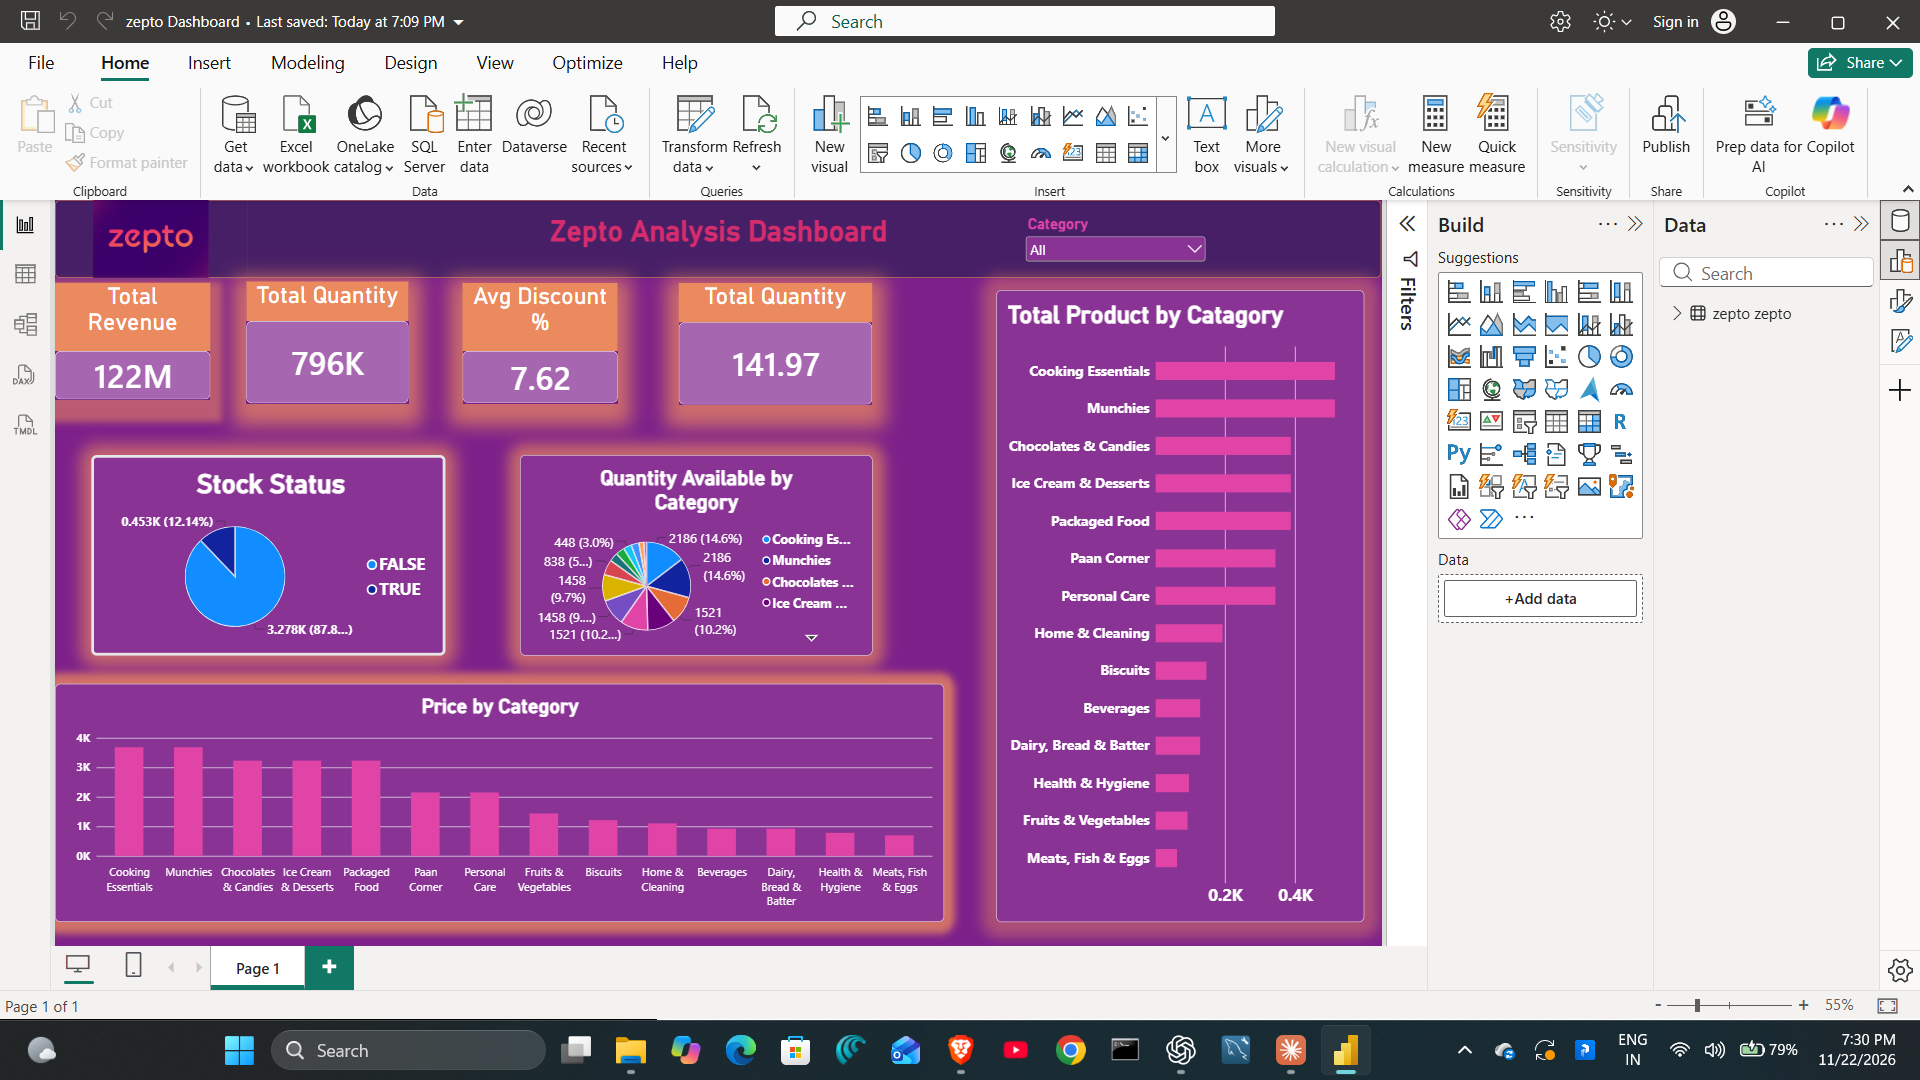

The dashboard page shown, as its layout file describes it:
{"tool":"powerbi","page":{"name":"Page 1","canvas":[1920,1080],"ordinal":0},"visuals":[{"type":"textbox","title":"Zepto Analysis Dashboard","box":[0,0,1920,112.5],"z":0},{"type":"image","box":[0,0,277.5,112.5],"z":1000},{"type":"cardVisual","title":"Total Revenue","fields":{"Data":["Sum(zepto zepto.Tota Revenue)"]},"box":[0,120,225,170],"z":2000},{"type":"cardVisual","title":"Total Quantity","fields":{"Data":["Sum(zepto zepto.quantity)"]},"box":[277.5,117.5,235,177.5],"z":3000},{"type":"cardVisual","title":"Avg Discount %","fields":{"Data":["Avg(zepto zepto.discountPercent)"]},"box":[590,120,225,175],"z":4000},{"type":"cardVisual","title":"Total Quantity","fields":{"Data":["Avg(zepto zepto.discountedSellingPrice)"]},"box":[902.5,120,280,177.5],"z":5000},{"type":"clusteredBarChart","fields":{"Category":["zepto zepto.Category"],"Y":["CountNonNull(zepto zepto.name)"]},"box":[1362.5,130,532.5,915],"z":6000},{"type":"pieChart","title":"Stock Status","fields":{"Category":["zepto zepto.outOfStock"],"Y":["CountNonNull(zepto zepto.outOfStock)"]},"box":[52.5,370,512.5,290],"z":7000},{"type":"pieChart","title":"Quantity Available by Category","fields":{"Category":["zepto zepto.Category"],"Y":["Sum(zepto zepto.availableQuantity)"]},"box":[672.5,370,510,290],"z":8000},{"type":"clusteredColumnChart","title":"Price by Category","fields":{"Category":["zepto zepto.Category"],"Y":["Sum(zepto zepto.discountPercent)"]},"box":[0,700,1287.5,345],"z":9000},{"type":"slicer","fields":{"Values":["zepto zepto.Category"]},"box":[1400,22.5,270,90],"z":9001}]}

Visuals, with their boxes on the page's 1920x1080 design canvas (x1, y1, x2, y2). These are canvas units, not pixel positions in the 1920x1080 screenshot, which may show the page scaled, cropped or inside an application window:
"Zepto Analysis Dashboard" textbox: bbox=(0, 0, 1920, 112)
image: bbox=(0, 0, 278, 112)
"Total Revenue" cardVisual: bbox=(0, 120, 225, 290)
"Total Quantity" cardVisual: bbox=(278, 118, 512, 295)
"Avg Discount %" cardVisual: bbox=(590, 120, 815, 295)
"Total Quantity" cardVisual: bbox=(902, 120, 1182, 298)
clusteredBarChart - zepto zepto.Category x CountNonNull(zepto zepto.name): bbox=(1362, 130, 1895, 1045)
"Stock Status" pieChart: bbox=(52, 370, 565, 660)
"Quantity Available by Category" pieChart: bbox=(672, 370, 1182, 660)
"Price by Category" clusteredColumnChart: bbox=(0, 700, 1288, 1045)
slicer - zepto zepto.Category: bbox=(1400, 22, 1670, 112)
